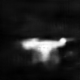plane: (19, 33, 75, 64)
